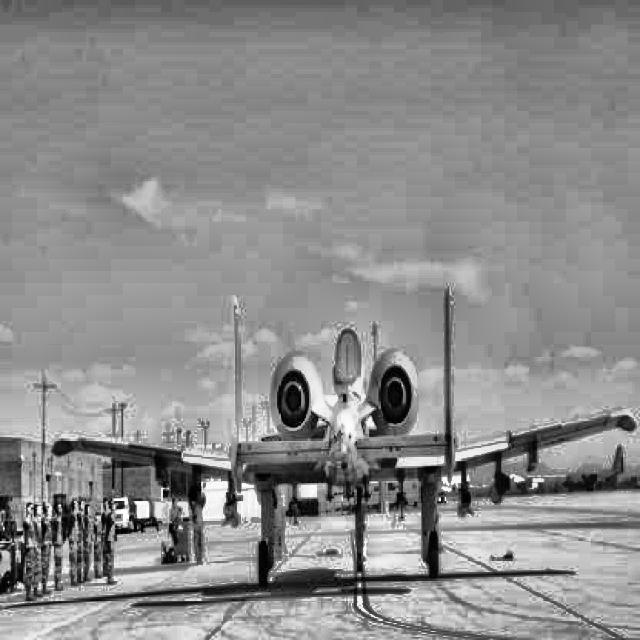A10: (50, 285, 636, 587)
C130: (562, 444, 626, 494)
